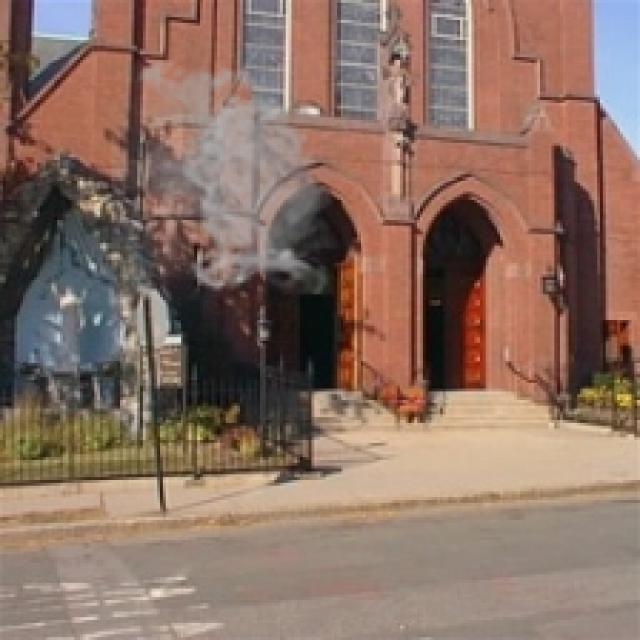Smoke: (111, 52, 340, 294)
